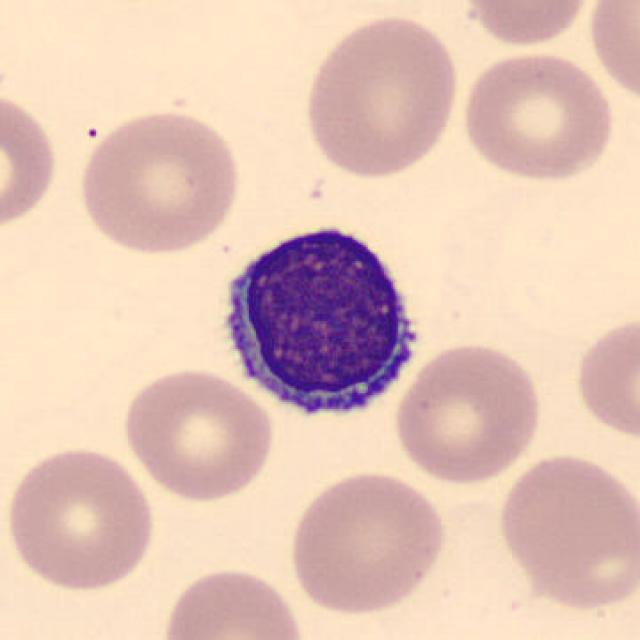Lymphocyte: (204, 212, 432, 432)
RBC: (299, 8, 462, 182), (73, 104, 245, 257), (284, 465, 450, 619), (2, 443, 158, 594), (390, 338, 548, 486), (494, 448, 636, 608), (119, 363, 279, 504), (457, 46, 619, 185), (157, 562, 311, 640), (0, 85, 62, 236), (571, 310, 638, 446), (455, 0, 595, 49), (585, 2, 638, 106)
